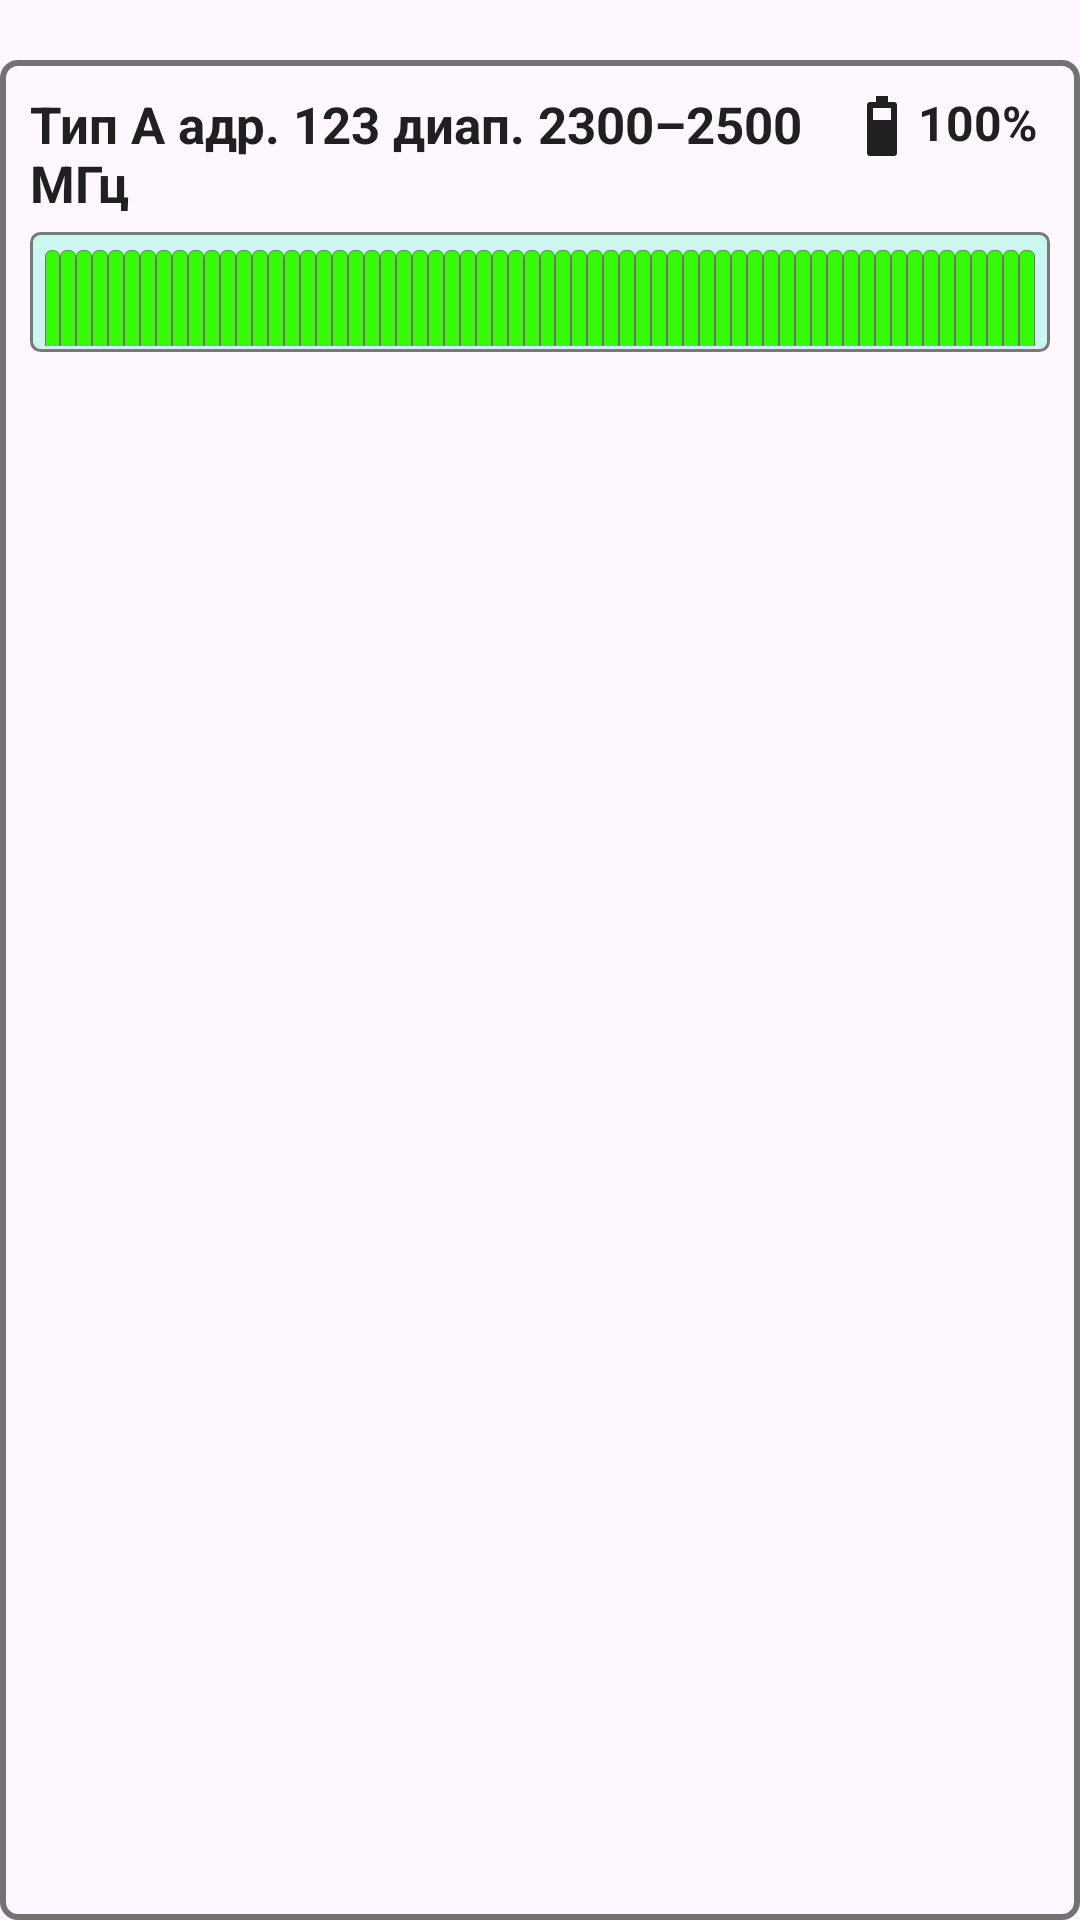

Icons on this 1080px x 1920px Android screen, each with its box as (x1,y1,x2,y2):
batt: (867,96,897,156)
